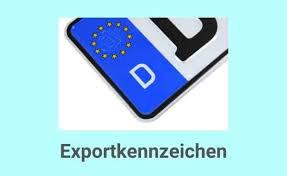K: (144, 0, 219, 63)
